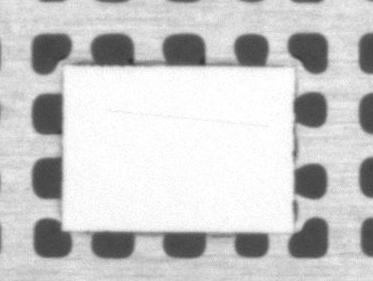DIE_CRACK: (141, 83, 356, 95)
